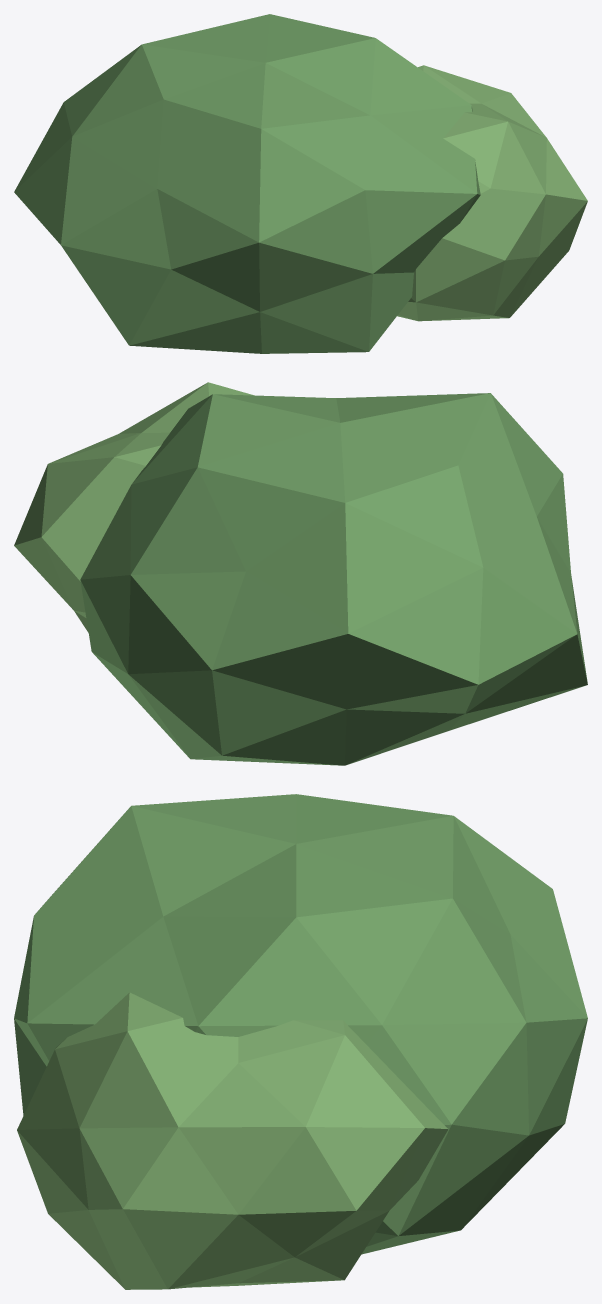
Rendered from bush.glb.
3 views of the same model, one above another, from view 1: azimuth 30°, elevation 25°; view 2: azimuth 150°, elevation 25°; view 3: azimuth 270°, elevation 25° (orthographic). The views are drawn at different scales.
Visible parts, largest first — view 1: Bush; view 2: Bush; view 3: Bush.
Boxes of the visible parts, box(x1,y1,x2,y2) form: Bush: box(14, 14, 587, 353); Bush: box(14, 382, 587, 765); Bush: box(14, 794, 587, 1289).
Bounding box in the file's own units: 2.47 × 1.39 × 1.99.
